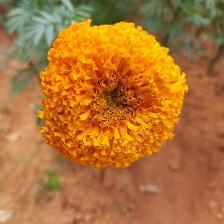marigold: (38, 19, 192, 173)
